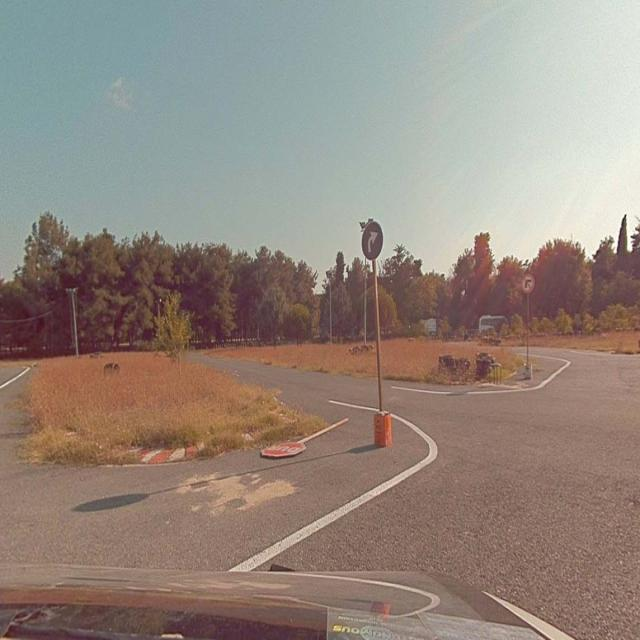sag: (362, 221, 384, 259)
sagadonulmez: (523, 274, 533, 292)
